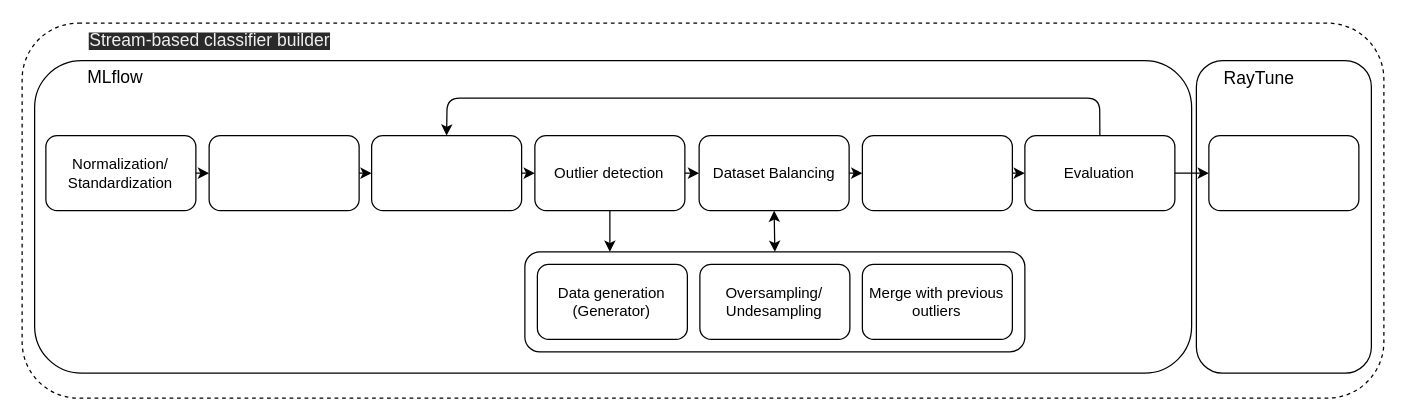
Image size: 1406x420. Some labels were removed from this diagram. The shapes that lost their labels are listed below. From the top down, each one's box as (x1, y1, x2, y2) in pixels, then its label:
(208, 134, 359, 211): Data imputation (Imputer)
(370, 134, 522, 211): Feature engineering [feature selection, dimensionality reduction]
(861, 134, 1012, 211): Classification
(1208, 134, 1359, 211): HyperParameter tuning
